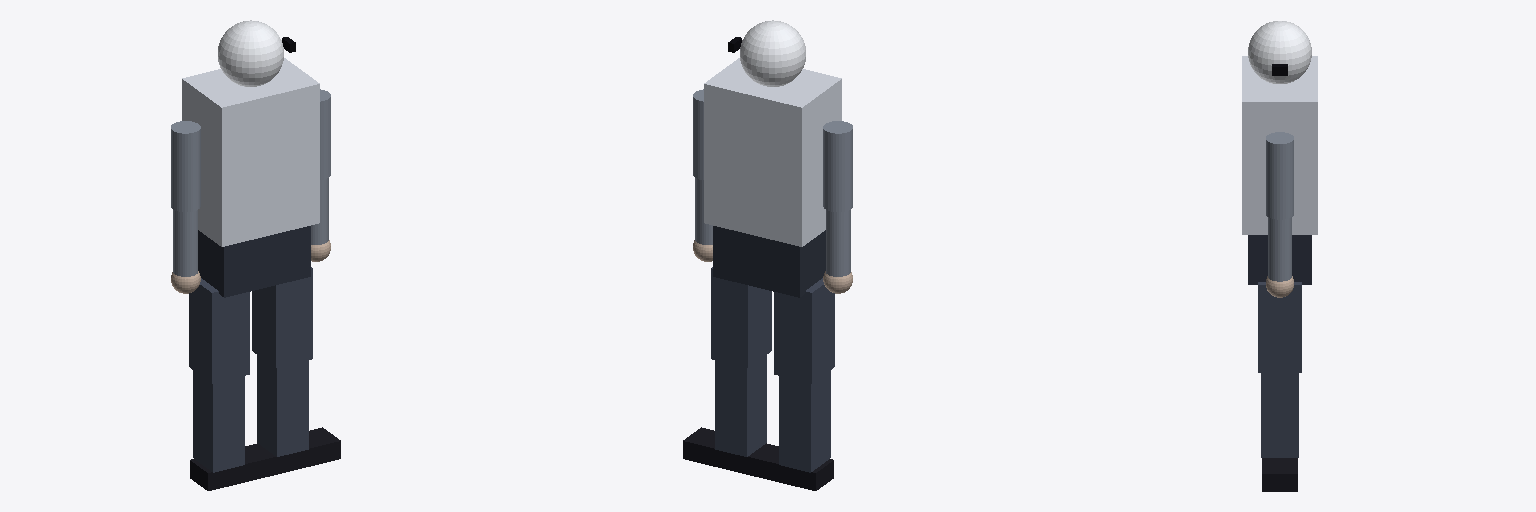
The robot description file, URDF, robot "classroom_humanoid":
<?xml version="1.0"?>
<robot name="classroom_humanoid">
  <!-- 骨盆：机器人根节点，基座位置即骨盆中心，站立时 z=0.74 -->
  <link name="base_link">
    <inertial>
      <origin xyz="0 0 0" rpy="0 0 0"/>
      <mass value="7.0"/>
      <inertia ixx="0.06" ixy="0" ixz="0" iyy="0.04" iyz="0" izz="0.05"/>
    </inertial>
    <visual>
      <origin xyz="0 0 0" rpy="0 0 0"/>
      <geometry><box size="0.30 0.20 0.18"/></geometry>
      <material name="pelvis"><color rgba="0.22 0.24 0.29 1"/></material>
    </visual>
    <collision>
      <origin xyz="0 0 0" rpy="0 0 0"/>
      <geometry><box size="0.30 0.20 0.18"/></geometry>
    </collision>
  </link>

  <!-- 躯干 -->
  <joint name="torso_joint" type="fixed">
    <parent link="base_link"/>
    <child link="torso_link"/>
    <origin xyz="0 0 0.09" rpy="0 0 0"/>
  </joint>
  <link name="torso_link">
    <inertial>
      <origin xyz="0 0 0.23" rpy="0 0 0"/>
      <mass value="8.0"/>
      <inertia ixx="0.11" ixy="0" ixz="0" iyy="0.08" iyz="0" izz="0.10"/>
    </inertial>
    <visual>
      <origin xyz="0 0 0.23" rpy="0 0 0"/>
      <geometry><box size="0.34 0.24 0.46"/></geometry>
      <material name="torso"><color rgba="0.86 0.88 0.92 1"/></material>
    </visual>
    <collision>
      <origin xyz="0 0 0.23" rpy="0 0 0"/>
      <geometry><box size="0.34 0.24 0.46"/></geometry>
    </collision>
  </link>

  <!-- 头部 -->
  <joint name="head_joint" type="fixed">
    <parent link="torso_link"/>
    <child link="head_link"/>
    <origin xyz="0 0 0.46" rpy="0 0 0"/>
  </joint>
  <link name="head_link">
    <inertial>
      <origin xyz="0 0 0.09" rpy="0 0 0"/>
      <mass value="0.9"/>
      <inertia ixx="0.004" ixy="0" ixz="0" iyy="0.004" iyz="0" izz="0.004"/>
    </inertial>
    <visual>
      <origin xyz="0 0 0.09" rpy="0 0 0"/>
      <geometry><sphere radius="0.10"/></geometry>
      <material name="head"><color rgba="0.94 0.95 0.97 1"/></material>
    </visual>
    <collision>
      <origin xyz="0 0 0.09" rpy="0 0 0"/>
      <geometry><sphere radius="0.10"/></geometry>
    </collision>
  </link>

  <!-- 头部相机（仅视觉，实际成像由渲染器按该位姿计算） -->
  <joint name="camera_joint" type="fixed">
    <parent link="head_link"/>
    <child link="camera_link"/>
    <origin xyz="0.13 0 0.09" rpy="0 0 0"/>
  </joint>
  <link name="camera_link">
    <inertial>
      <origin xyz="0 0 0" rpy="0 0 0"/>
      <mass value="0.08"/>
      <inertia ixx="0.00005" ixy="0" ixz="0" iyy="0.00005" iyz="0" izz="0.00005"/>
    </inertial>
    <visual>
      <origin xyz="0 0 0" rpy="0 0 0"/>
      <geometry><box size="0.02 0.05 0.03"/></geometry>
      <material name="camera"><color rgba="0.08 0.08 0.10 1"/></material>
    </visual>
  </link>

  <!-- 2D 激光雷达：安装在骨盆上方 -->
  <joint name="lidar_joint" type="fixed">
    <parent link="base_link"/>
    <child link="lidar_link"/>
    <origin xyz="0 0 0.105" rpy="0 0 0"/>
  </joint>
  <link name="lidar_link">
    <inertial>
      <origin xyz="0 0 0" rpy="0 0 0"/>
      <mass value="0.15"/>
      <inertia ixx="0.0001" ixy="0" ixz="0" iyy="0.0001" iyz="0" izz="0.0001"/>
    </inertial>
    <visual>
      <origin xyz="0 0 0" rpy="0 0 0"/>
      <geometry><cylinder radius="0.045" length="0.04"/></geometry>
      <material name="lidar"><color rgba="0.95 0.55 0.10 1"/></material>
    </visual>
    <collision>
      <origin xyz="0 0 0" rpy="0 0 0"/>
      <geometry><cylinder radius="0.045" length="0.04"/></geometry>
    </collision>
  </link>

  <!-- 左臂 -->
  <joint name="left_shoulder_joint" type="revolute">
    <parent link="torso_link"/>
    <child link="left_upper_arm_link"/>
    <origin xyz="0.225 0 0.36" rpy="0 0 0"/>
    <axis xyz="0 1 0"/>
    <limit lower="-1.2" upper="1.2" effort="12" velocity="4.0"/>
  </joint>
  <link name="left_upper_arm_link">
    <inertial>
      <origin xyz="0 0 -0.13" rpy="0 0 0"/>
      <mass value="1.2"/>
      <inertia ixx="0.003" ixy="0" ixz="0" iyy="0.003" iyz="0" izz="0.003"/>
    </inertial>
    <visual>
      <origin xyz="0 0 -0.13" rpy="0 0 0"/>
      <geometry><cylinder radius="0.045" length="0.26"/></geometry>
      <material name="arm"><color rgba="0.55 0.58 0.63 1"/></material>
    </visual>
    <collision>
      <origin xyz="0 0 -0.13" rpy="0 0 0"/>
      <geometry><cylinder radius="0.05" length="0.26"/></geometry>
    </collision>
  </link>
  <joint name="left_elbow_joint" type="revolute">
    <parent link="left_upper_arm_link"/>
    <child link="left_forearm_link"/>
    <origin xyz="0 0 -0.26" rpy="0 0 0"/>
    <axis xyz="0 1 0"/>
    <limit lower="-1.5" upper="0.4" effort="10" velocity="4.0"/>
  </joint>
  <link name="left_forearm_link">
    <inertial>
      <origin xyz="0 0 -0.12" rpy="0 0 0"/>
      <mass value="0.8"/>
      <inertia ixx="0.002" ixy="0" ixz="0" iyy="0.002" iyz="0" izz="0.002"/>
    </inertial>
    <visual>
      <origin xyz="0 0 -0.12" rpy="0 0 0"/>
      <geometry><cylinder radius="0.038" length="0.24"/></geometry>
      <material name="arm"/>
    </visual>
    <collision>
      <origin xyz="0 0 -0.12" rpy="0 0 0"/>
      <geometry><cylinder radius="0.042" length="0.24"/></geometry>
    </collision>
  </link>
  <joint name="left_hand_joint" type="fixed">
    <parent link="left_forearm_link"/>
    <child link="left_hand_link"/>
    <origin xyz="0 0 -0.24" rpy="0 0 0"/>
  </joint>
  <link name="left_hand_link">
    <inertial>
      <origin xyz="0 0 0" rpy="0 0 0"/>
      <mass value="0.2"/>
      <inertia ixx="0.0003" ixy="0" ixz="0" iyy="0.0003" iyz="0" izz="0.0003"/>
    </inertial>
    <visual>
      <origin xyz="0 0 0" rpy="0 0 0"/>
      <geometry><sphere radius="0.045"/></geometry>
      <material name="hand"><color rgba="0.80 0.72 0.66 1"/></material>
    </visual>
  </link>

  <!-- 右臂 -->
  <joint name="right_shoulder_joint" type="revolute">
    <parent link="torso_link"/>
    <child link="right_upper_arm_link"/>
    <origin xyz="-0.225 0 0.36" rpy="0 0 0"/>
    <axis xyz="0 1 0"/>
    <limit lower="-1.2" upper="1.2" effort="12" velocity="4.0"/>
  </joint>
  <link name="right_upper_arm_link">
    <inertial>
      <origin xyz="0 0 -0.13" rpy="0 0 0"/>
      <mass value="1.2"/>
      <inertia ixx="0.003" ixy="0" ixz="0" iyy="0.003" iyz="0" izz="0.003"/>
    </inertial>
    <visual>
      <origin xyz="0 0 -0.13" rpy="0 0 0"/>
      <geometry><cylinder radius="0.045" length="0.26"/></geometry>
      <material name="arm"/>
    </visual>
    <collision>
      <origin xyz="0 0 -0.13" rpy="0 0 0"/>
      <geometry><cylinder radius="0.05" length="0.26"/></geometry>
    </collision>
  </link>
  <joint name="right_elbow_joint" type="revolute">
    <parent link="right_upper_arm_link"/>
    <child link="right_forearm_link"/>
    <origin xyz="0 0 -0.26" rpy="0 0 0"/>
    <axis xyz="0 1 0"/>
    <limit lower="-1.5" upper="0.4" effort="10" velocity="4.0"/>
  </joint>
  <link name="right_forearm_link">
    <inertial>
      <origin xyz="0 0 -0.12" rpy="0 0 0"/>
      <mass value="0.8"/>
      <inertia ixx="0.002" ixy="0" ixz="0" iyy="0.002" iyz="0" izz="0.002"/>
    </inertial>
    <visual>
      <origin xyz="0 0 -0.12" rpy="0 0 0"/>
      <geometry><cylinder radius="0.038" length="0.24"/></geometry>
      <material name="arm"/>
    </visual>
    <collision>
      <origin xyz="0 0 -0.12" rpy="0 0 0"/>
      <geometry><cylinder radius="0.042" length="0.24"/></geometry>
    </collision>
  </link>
  <joint name="right_hand_joint" type="fixed">
    <parent link="right_forearm_link"/>
    <child link="right_hand_link"/>
    <origin xyz="0 0 -0.24" rpy="0 0 0"/>
  </joint>
  <link name="right_hand_link">
    <inertial>
      <origin xyz="0 0 0" rpy="0 0 0"/>
      <mass value="0.2"/>
      <inertia ixx="0.0003" ixy="0" ixz="0" iyy="0.0003" iyz="0" izz="0.0003"/>
    </inertial>
    <visual>
      <origin xyz="0 0 0" rpy="0 0 0"/>
      <geometry><sphere radius="0.045"/></geometry>
      <material name="hand"><color rgba="0.80 0.72 0.66 1"/></material>
    </visual>
  </link>

  <!-- 左腿 -->
  <joint name="left_hip_joint" type="revolute">
    <parent link="base_link"/>
    <child link="left_thigh_link"/>
    <origin xyz="0.11 0 -0.08" rpy="0 0 0"/>
    <axis xyz="0 1 0"/>
    <limit lower="-0.9" upper="0.9" effort="45" velocity="5.0"/>
  </joint>
  <link name="left_thigh_link">
    <inertial>
      <origin xyz="0 0 -0.15" rpy="0 0 0"/>
      <mass value="2.5"/>
      <inertia ixx="0.02" ixy="0" ixz="0" iyy="0.02" iyz="0" izz="0.006"/>
    </inertial>
    <visual>
      <origin xyz="0 0 -0.15" rpy="0 0 0"/>
      <geometry><box size="0.13 0.14 0.30"/></geometry>
      <material name="leg"><color rgba="0.30 0.33 0.39 1"/></material>
    </visual>
    <collision>
      <origin xyz="0 0 -0.15" rpy="0 0 0"/>
      <geometry><box size="0.13 0.14 0.30"/></geometry>
    </collision>
  </link>
  <joint name="left_knee_joint" type="revolute">
    <parent link="left_thigh_link"/>
    <child link="left_shin_link"/>
    <origin xyz="0 0 -0.30" rpy="0 0 0"/>
    <axis xyz="0 1 0"/>
    <limit lower="0.0" upper="1.4" effort="55" velocity="5.0"/>
  </joint>
  <link name="left_shin_link">
    <inertial>
      <origin xyz="0 0 -0.15" rpy="0 0 0"/>
      <mass value="2.0"/>
      <inertia ixx="0.015" ixy="0" ixz="0" iyy="0.015" iyz="0" izz="0.005"/>
    </inertial>
    <visual>
      <origin xyz="0 0 -0.15" rpy="0 0 0"/>
      <geometry><box size="0.11 0.12 0.30"/></geometry>
      <material name="leg"/>
    </visual>
    <collision>
      <origin xyz="0 0 -0.15" rpy="0 0 0"/>
      <geometry><box size="0.11 0.12 0.30"/></geometry>
    </collision>
  </link>
  <joint name="left_ankle_joint" type="revolute">
    <parent link="left_shin_link"/>
    <child link="left_foot_link"/>
    <origin xyz="0 0 -0.30" rpy="0 0 0"/>
    <axis xyz="0 1 0"/>
    <limit lower="-1.0" upper="0.7" effort="30" velocity="5.0"/>
  </joint>
  <link name="left_foot_link">
    <inertial>
      <origin xyz="0.05 0 -0.03" rpy="0 0 0"/>
      <mass value="0.6"/>
      <inertia ixx="0.002" ixy="0" ixz="0" iyy="0.003" iyz="0" izz="0.003"/>
    </inertial>
    <visual>
      <origin xyz="0.05 0 -0.03" rpy="0 0 0"/>
      <geometry><box size="0.24 0.11 0.06"/></geometry>
      <material name="foot"><color rgba="0.14 0.14 0.17 1"/></material>
    </visual>
    <collision>
      <origin xyz="0.05 0 -0.03" rpy="0 0 0"/>
      <geometry><box size="0.24 0.11 0.06"/></geometry>
    </collision>
  </link>

  <!-- 右腿 -->
  <joint name="right_hip_joint" type="revolute">
    <parent link="base_link"/>
    <child link="right_thigh_link"/>
    <origin xyz="-0.11 0 -0.08" rpy="0 0 0"/>
    <axis xyz="0 1 0"/>
    <limit lower="-0.9" upper="0.9" effort="45" velocity="5.0"/>
  </joint>
  <link name="right_thigh_link">
    <inertial>
      <origin xyz="0 0 -0.15" rpy="0 0 0"/>
      <mass value="2.5"/>
      <inertia ixx="0.02" ixy="0" ixz="0" iyy="0.02" iyz="0" izz="0.006"/>
    </inertial>
    <visual>
      <origin xyz="0 0 -0.15" rpy="0 0 0"/>
      <geometry><box size="0.13 0.14 0.30"/></geometry>
      <material name="leg"/>
    </visual>
    <collision>
      <origin xyz="0 0 -0.15" rpy="0 0 0"/>
      <geometry><box size="0.13 0.14 0.30"/></geometry>
    </collision>
  </link>
  <joint name="right_knee_joint" type="revolute">
    <parent link="right_thigh_link"/>
    <child link="right_shin_link"/>
    <origin xyz="0 0 -0.30" rpy="0 0 0"/>
    <axis xyz="0 1 0"/>
    <limit lower="0.0" upper="1.4" effort="55" velocity="5.0"/>
  </joint>
  <link name="right_shin_link">
    <inertial>
      <origin xyz="0 0 -0.15" rpy="0 0 0"/>
      <mass value="2.0"/>
      <inertia ixx="0.015" ixy="0" ixz="0" iyy="0.015" iyz="0" izz="0.005"/>
    </inertial>
    <visual>
      <origin xyz="0 0 -0.15" rpy="0 0 0"/>
      <geometry><box size="0.11 0.12 0.30"/></geometry>
      <material name="leg"/>
    </visual>
    <collision>
      <origin xyz="0 0 -0.15" rpy="0 0 0"/>
      <geometry><box size="0.11 0.12 0.30"/></geometry>
    </collision>
  </link>
  <joint name="right_ankle_joint" type="revolute">
    <parent link="right_shin_link"/>
    <child link="right_foot_link"/>
    <origin xyz="0 0 -0.30" rpy="0 0 0"/>
    <axis xyz="0 1 0"/>
    <limit lower="-1.0" upper="0.7" effort="30" velocity="5.0"/>
  </joint>
  <link name="right_foot_link">
    <inertial>
      <origin xyz="0.05 0 -0.03" rpy="0 0 0"/>
      <mass value="0.6"/>
      <inertia ixx="0.002" ixy="0" ixz="0" iyy="0.003" iyz="0" izz="0.003"/>
    </inertial>
    <visual>
      <origin xyz="0.05 0 -0.03" rpy="0 0 0"/>
      <geometry><box size="0.24 0.11 0.06"/></geometry>
      <material name="foot"><color rgba="0.14 0.14 0.17 1"/></material>
    </visual>
    <collision>
      <origin xyz="0.05 0 -0.03" rpy="0 0 0"/>
      <geometry><box size="0.24 0.11 0.06"/></geometry>
    </collision>
  </link>
</robot>

--- Facts derived from the render (not from the file) ---
Views: 3 orthographic renders of the robot side by side, from view 1: azimuth 30°, elevation 25°; view 2: azimuth 150°, elevation 25°; view 3: azimuth 270°, elevation 25°.
Robot: classroom_humanoid — 17 links, 16 joints (10 revolute, 6 fixed); root link base_link; default pose: every joint at zero.
Visible links, largest first — view 1: torso_link, base_link, right_thigh_link, left_thigh_link, left_shin_link, right_shin_link, head_link, right_upper_arm_link, right_foot_link, left_foot_link, right_forearm_link, left_upper_arm_link (+1 smaller); view 2: torso_link, base_link, right_thigh_link, left_thigh_link, left_shin_link, right_shin_link, head_link, right_upper_arm_link, right_foot_link, left_foot_link, right_forearm_link, left_upper_arm_link (+1 smaller); view 3: torso_link, left_thigh_link, left_shin_link, head_link, left_upper_arm_link, base_link, left_forearm_link, left_foot_link.
Boxes of the visible links, x1,y1,x2,y2 form: torso_link: (182,58,319,246); base_link: (198,226,310,297); right_thigh_link: (189,278,249,383); left_thigh_link: (252,267,312,367); left_shin_link: (257,355,308,456); right_shin_link: (193,370,244,472); head_link: (218,20,283,86); right_upper_arm_link: (171,121,200,211); right_foot_link: (190,443,276,490); left_foot_link: (260,427,340,475); right_forearm_link: (173,210,197,276); left_upper_arm_link: (320,89,330,179); torso_link: (704,58,841,246); base_link: (713,226,825,297); right_thigh_link: (774,278,834,383); left_thigh_link: (711,267,771,367); left_shin_link: (715,355,766,456); right_shin_link: (779,370,830,472); head_link: (740,20,805,86); right_upper_arm_link: (823,121,852,211); right_foot_link: (747,443,833,490); left_foot_link: (683,427,768,475); right_forearm_link: (826,210,850,276); left_upper_arm_link: (693,89,703,179); torso_link: (1242,56,1317,234); left_thigh_link: (1258,282,1301,372); left_shin_link: (1261,373,1298,457); head_link: (1248,21,1311,83); left_upper_arm_link: (1266,132,1293,219); base_link: (1248,235,1311,284); left_forearm_link: (1268,217,1291,281); left_foot_link: (1262,458,1297,491).
Bounding box of the posed robot: 0.55 × 0.24 × 1.48 m (x, y, z).
Geometry: primitives only (box / cylinder / sphere), no mesh files.
